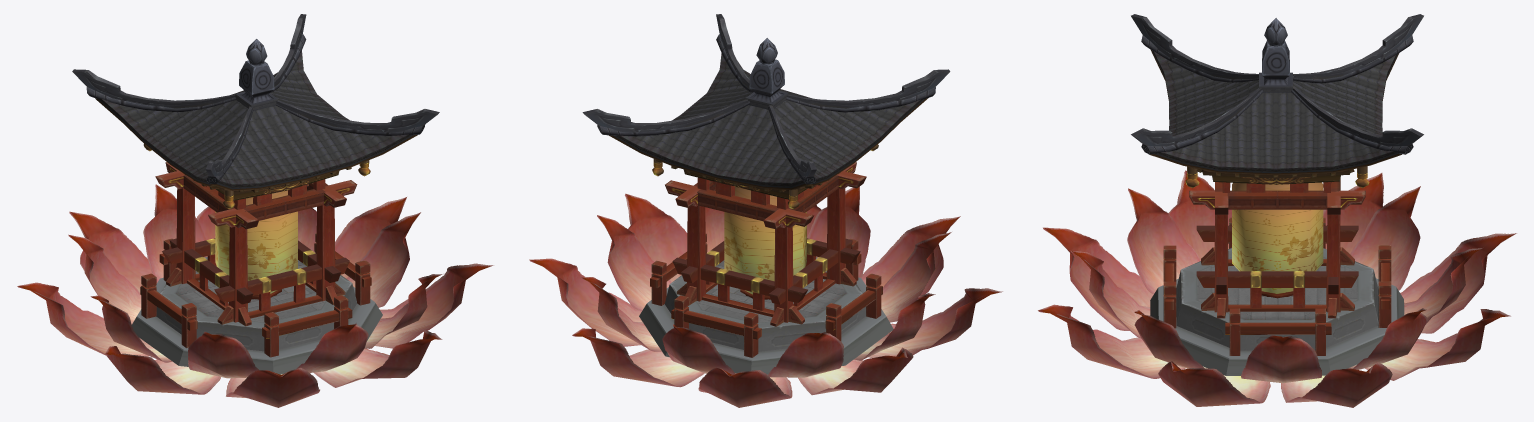
The model's file is ZYbui_CLF_huxinting01.FBX.
The picture shows the model from 3 angles, left to right: view 1: azimuth 30°, elevation 25°; view 2: azimuth 150°, elevation 25°; view 3: azimuth 270°, elevation 25°; orthographic projection. The views are drawn at different scales.
Visible parts, largest first — view 1: ZYbui_CLF_huxinting01; view 2: ZYbui_CLF_huxinting01; view 3: ZYbui_CLF_huxinting01.
Part boxes in pixels (bbox=[...]): ZYbui_CLF_huxinting01: bbox=[17, 14, 493, 407]; ZYbui_CLF_huxinting01: bbox=[529, 14, 1002, 407]; ZYbui_CLF_huxinting01: bbox=[1038, 14, 1516, 407].
Size of the model in its own units: 1344 by 994 by 1344.
